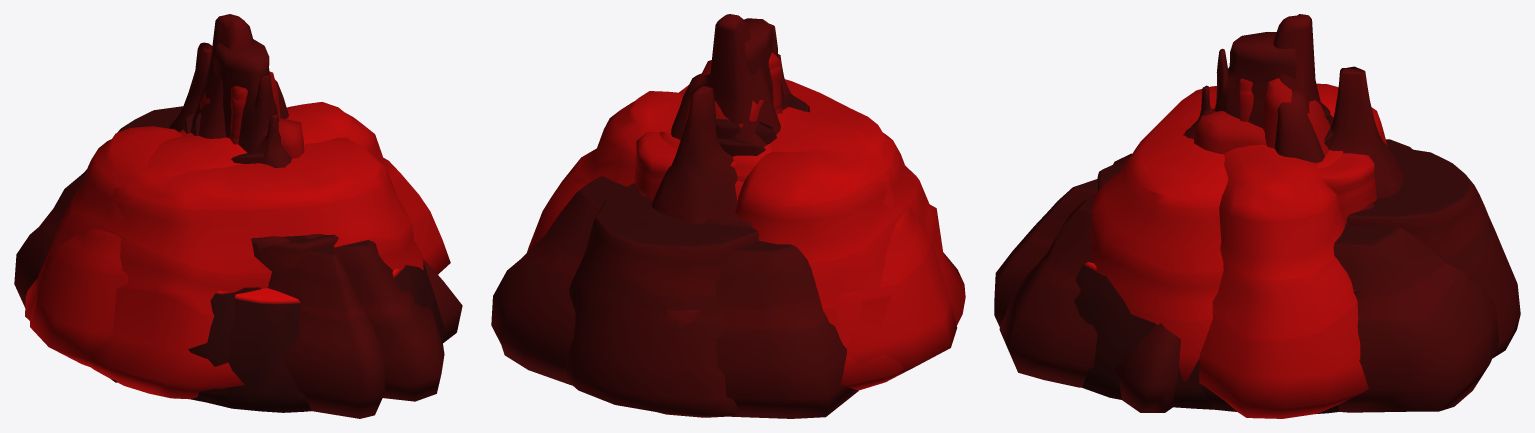
File: EverythingLibrary_Geology_001.fbx
3 renders of one model, left to right at view 1: azimuth 30°, elevation 25°; view 2: azimuth 150°, elevation 25°; view 3: azimuth 270°, elevation 25°, orthographic. The views are drawn at different scales.
Visible parts, largest first — view 1: alt3 (×5), alt2 (×5), alt4 (×2), alt1, alt5; view 2: alt4 (×2), alt1 (×4), alt3 (×2), alt2 (×3), alt5; view 3: alt2 (×3), alt3 (×5), alt4 (×2), alt1 (×2), alt5.
Part boxes in pixels (x1,y1,x2,y2): alt3 (×5): [25, 85, 462, 418]; alt2 (×5): [30, 14, 450, 402]; alt4 (×2): [14, 39, 444, 401]; alt1: [117, 106, 338, 285]; alt5: [169, 42, 212, 132]; alt4 (×2): [491, 18, 858, 418]; alt1 (×4): [563, 60, 776, 417]; alt3 (×2): [634, 79, 965, 390]; alt2 (×3): [527, 14, 957, 379]; alt5: [651, 84, 737, 223]; alt2 (×3): [1194, 14, 1368, 418]; alt3 (×5): [994, 83, 1387, 412]; alt4 (×2): [999, 32, 1498, 412]; alt1 (×2): [1097, 78, 1520, 358]; alt5: [1330, 66, 1404, 198].
Size of the model in its own units: 8510 by 6335 by 9374.
